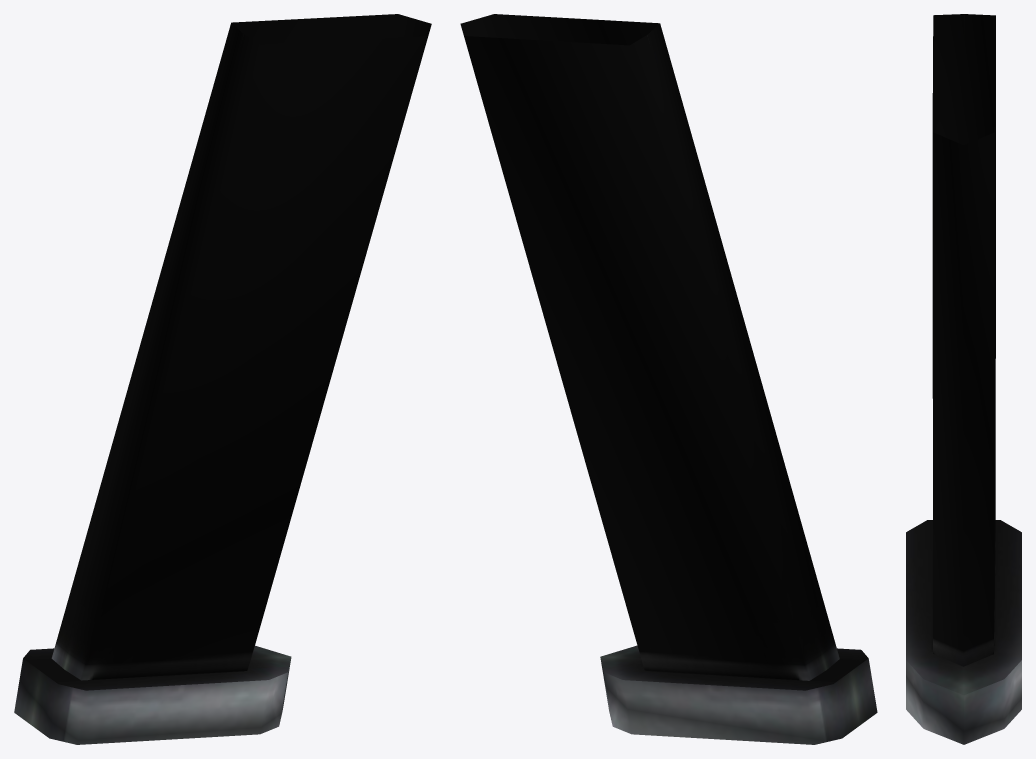
The model's file is magazine.glb.
3 renders of one model, left to right at view 1: azimuth 30°, elevation 25°; view 2: azimuth 150°, elevation 25°; view 3: azimuth 270°, elevation 25°, orthographic. The views are drawn at different scales.
Parts seen in each view (by area): view 1: Cube.002; view 2: Cube.002; view 3: Cube.002.
Boxes of the visible parts, x1,y1,x2,y2 form: Cube.002: (14, 14, 431, 744); Cube.002: (460, 14, 877, 744); Cube.002: (906, 14, 1021, 744).
Bounding box in the file's own units: 0.6134 × 1.01 × 0.1482.
Materials: 1 (1 with a texture image).
